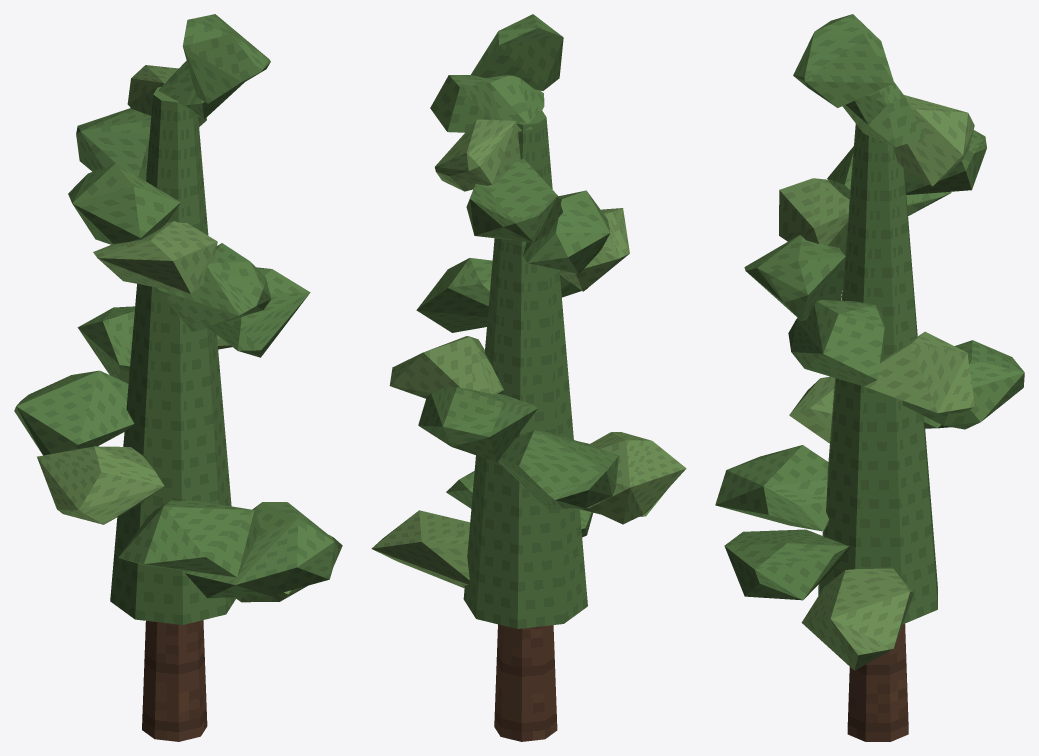
Rendered from f_topiary_abstract.glb.
The picture shows the model from 3 angles, left to right: view 1: azimuth 30°, elevation 25°; view 2: azimuth 150°, elevation 25°; view 3: azimuth 270°, elevation 25°; orthographic projection. The views are drawn at different scales.
Visible parts, largest first — view 1: block_spiral-pruned-leaf-crown (×13), block_leafy-rooted-spiral-core, block_trunk; view 2: block_spiral-pruned-leaf-crown (×13), block_leafy-rooted-spiral-core, block_trunk; view 3: block_spiral-pruned-leaf-crown (×14), block_leafy-rooted-spiral-core, block_trunk.
Part boxes in pixels (x1=…): block_spiral-pruned-leaf-crown (×13): x1=14, y1=14, x2=338, y2=598; block_leafy-rooted-spiral-core: x1=110, y1=86, x2=236, y2=624; block_trunk: x1=142, y1=620, x2=207, y2=741; block_spiral-pruned-leaf-crown (×13): x1=371, y1=14, x2=686, y2=588; block_leafy-rooted-spiral-core: x1=463, y1=110, x2=587, y2=628; block_trunk: x1=494, y1=624, x2=557, y2=741; block_spiral-pruned-leaf-crown (×14): x1=715, y1=14, x2=1024, y2=670; block_leafy-rooted-spiral-core: x1=818, y1=123, x2=937, y2=624; block_trunk: x1=847, y1=624, x2=908, y2=741.
Bounding box in the file's own units: 0.6786 × 1.61 × 0.6306.
1 material, 1 textured.
